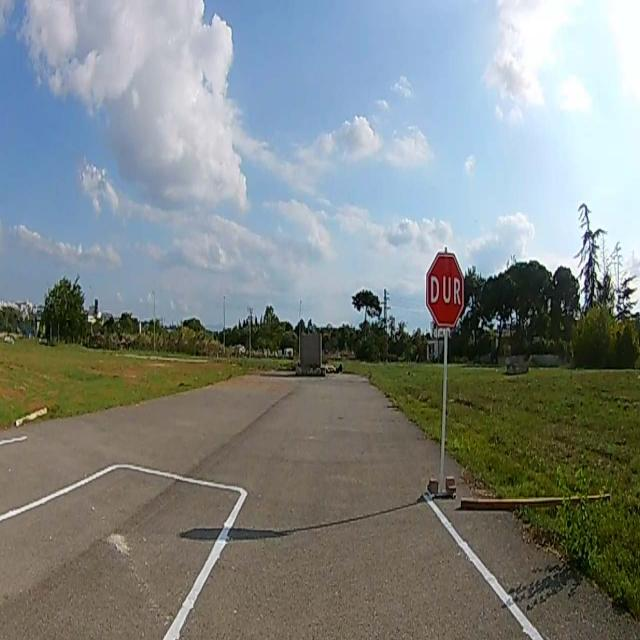dur: (427, 252, 465, 329)
